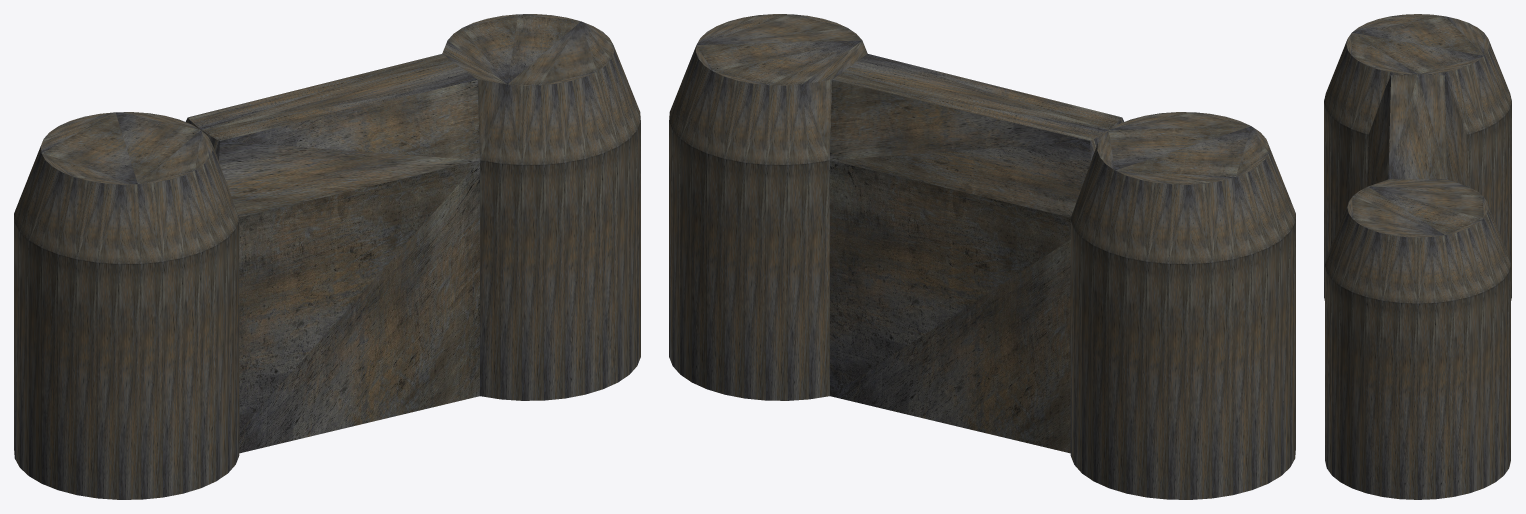
Rendered from lanes1.obj.
3 views of the same model, side by side, from view 1: azimuth 30°, elevation 25°; view 2: azimuth 150°, elevation 25°; view 3: azimuth 270°, elevation 25° (orthographic). The views are drawn at different scales.
Parts seen in each view (by area): view 1: Cylinder.001; view 2: Cylinder.001; view 3: Cylinder.001.
Boxes of the visible parts, x1,y1,x2,y2 form: Cylinder.001: (14, 14, 640, 499); Cylinder.001: (669, 14, 1295, 499); Cylinder.001: (1324, 14, 1511, 499).
Bounding box in the file's own units: 2.19 × 1.07 × 0.7172.
1 material, 1 textured.
